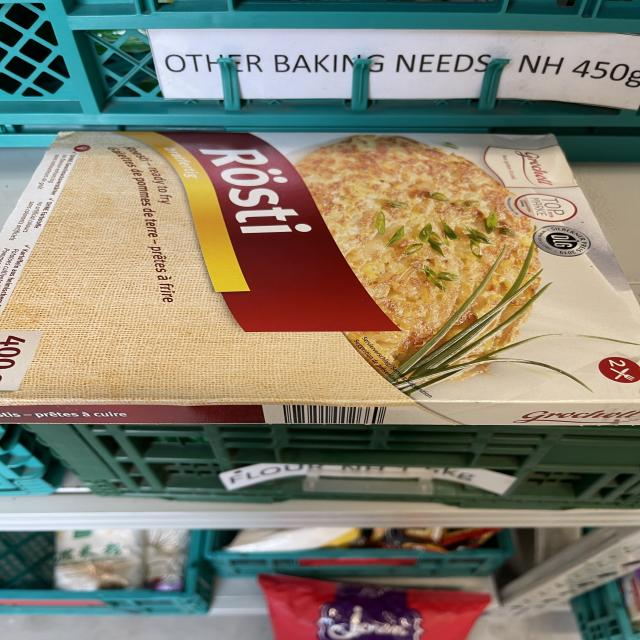object_name: (11, 130, 640, 426)
